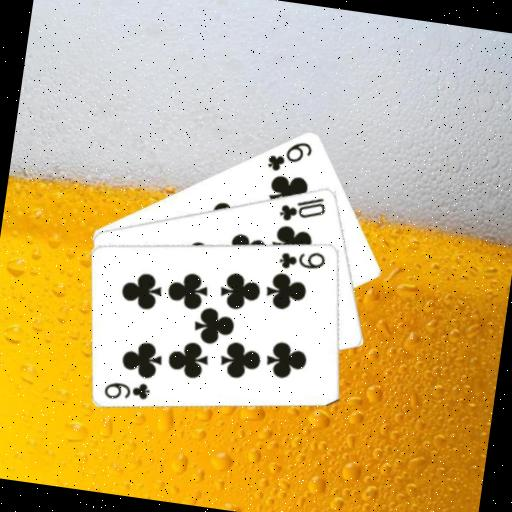10C: (275, 189, 329, 228)
6C: (264, 134, 316, 178)
9C: (276, 244, 329, 276), (101, 374, 154, 406)
